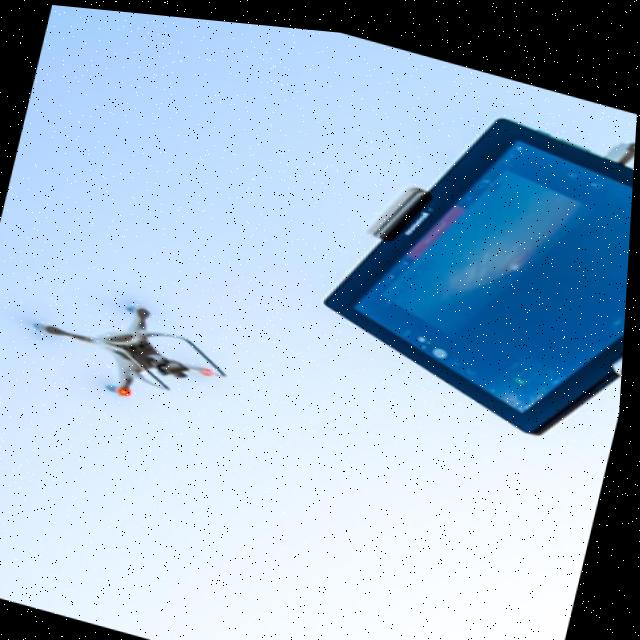drones: (0, 256, 278, 430)
